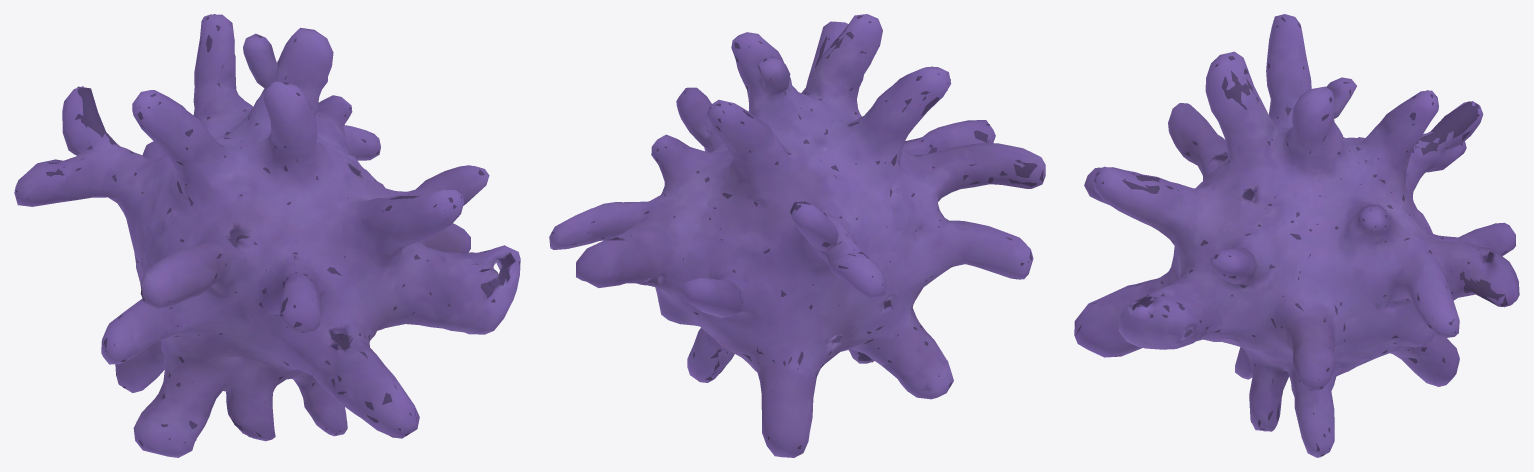
File: amoeba.glb
3 views of the same model, side by side, from view 1: azimuth 30°, elevation 25°; view 2: azimuth 150°, elevation 25°; view 3: azimuth 270°, elevation 25° (orthographic). The views are drawn at different scales.
Parts seen in each view (by area): view 1: attack-membrane; view 2: attack-membrane; view 3: attack-membrane.
Boxes of the visible parts, x1,y1,x2,y2 form: attack-membrane: (14,14,520,457); attack-membrane: (549,14,1045,457); attack-membrane: (1074,14,1519,457).
Size of the model in its own units: 1.96 by 1.76 by 2.03.
Materials: 1 (1 with a texture image).
